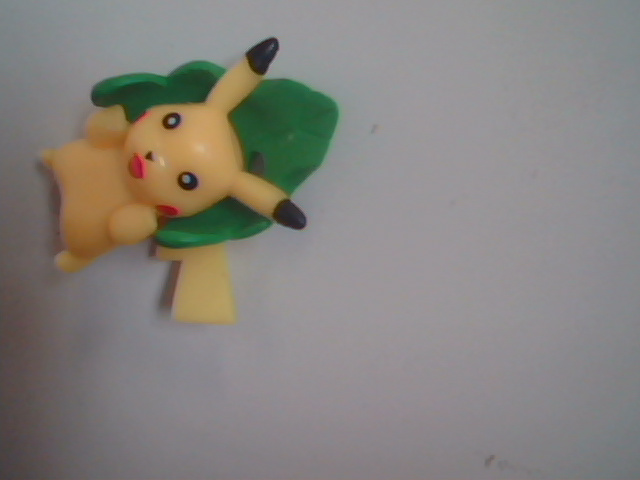pikachu: (25, 17, 398, 385)
